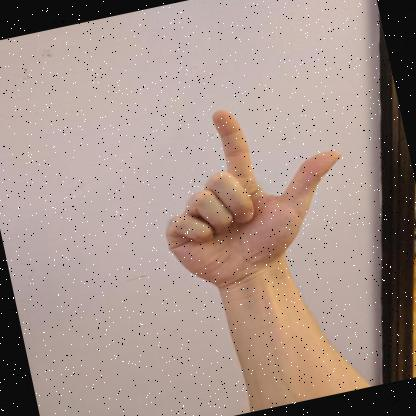L: (165, 109, 341, 291)
